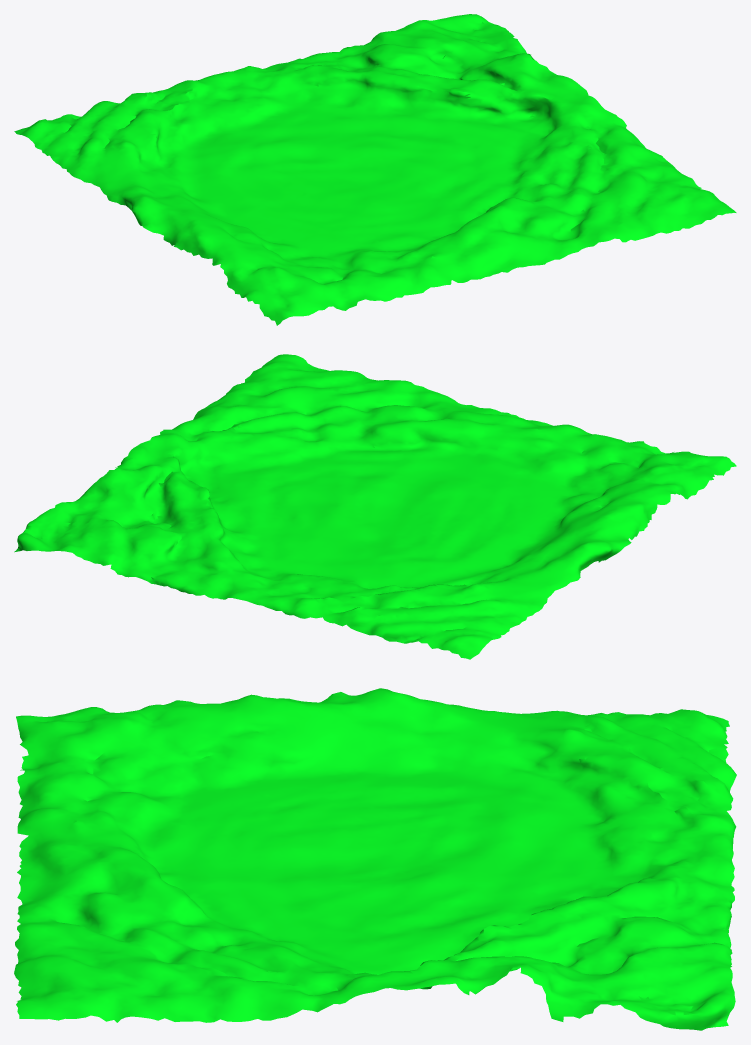
File: far_graund.fbx
3 renders of one model, top to bottom at view 1: azimuth 30°, elevation 25°; view 2: azimuth 150°, elevation 25°; view 3: azimuth 270°, elevation 25°, orthographic. The views are drawn at different scales.
Parts seen in each view (by area): view 1: fargraund; view 2: fargraund; view 3: fargraund.
Boxes of the visible parts, box(x1,y1,x2,y2) form: fargraund: box(14, 14, 736, 325); fargraund: box(14, 354, 736, 659); fargraund: box(14, 688, 736, 1030).
Bounding box in the file's own units: 593 × 571 × 38.71.
